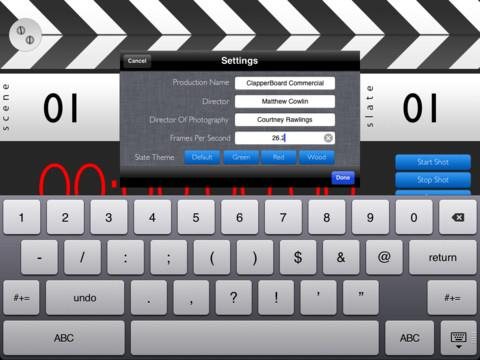clapperboard: (3, 1, 479, 195)
